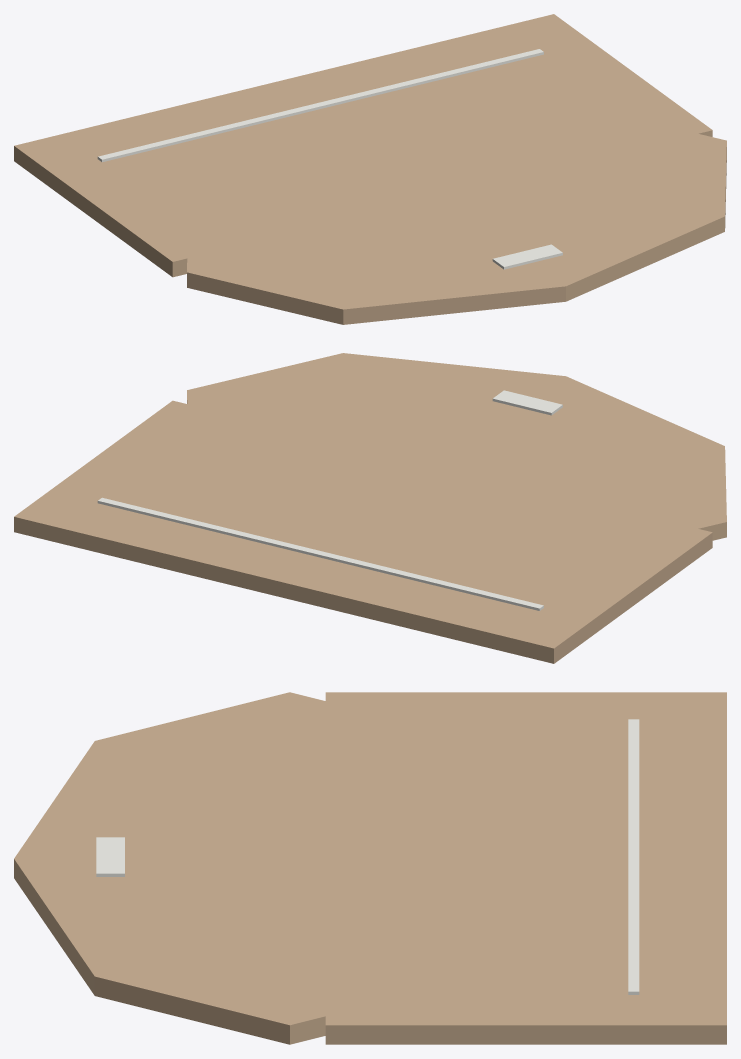
Rendered from prop-flap-blank.fbx.
The picture shows the model from 3 angles, top to bottom: view 1: azimuth 30°, elevation 25°; view 2: azimuth 150°, elevation 25°; view 3: azimuth 270°, elevation 25°; orthographic projection. The views are drawn at different scales.
Visible parts, largest first — view 1: prop-flap-blank; view 2: prop-flap-blank; view 3: prop-flap-blank.
Part boxes in pixels (bbox=[...]): prop-flap-blank: bbox=[14, 14, 726, 324]; prop-flap-blank: bbox=[14, 353, 726, 663]; prop-flap-blank: bbox=[14, 692, 726, 1044].
Bounding box in the file's own units: 11 × 0.35 × 9.95.
